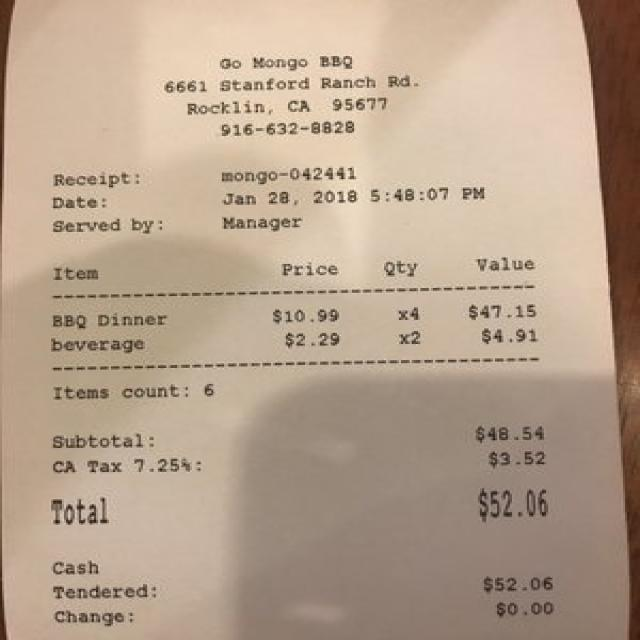TotalPrice: (24, 482, 578, 533)
